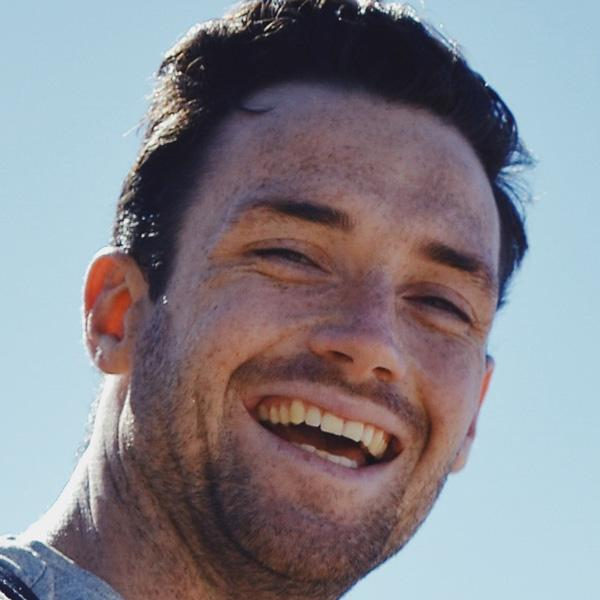Eyes: (236, 217, 338, 291), (388, 266, 484, 336)
